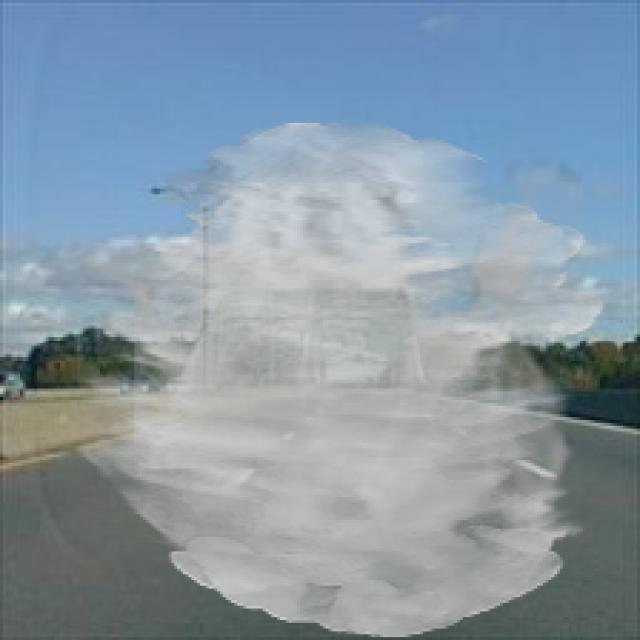smoke: (71, 120, 606, 637)
